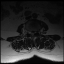CCS_stenosis: (31, 31, 33, 37)
LFS_normal: (35, 29, 37, 34)
LLS_stenosis: (33, 31, 35, 36)
RFS_normal: (28, 29, 30, 35)
RLS_normal: (30, 31, 31, 36)
